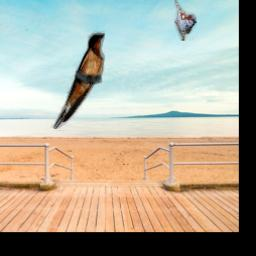Sparrow: (174, 0, 197, 41)
Swallow: (50, 32, 105, 130)
